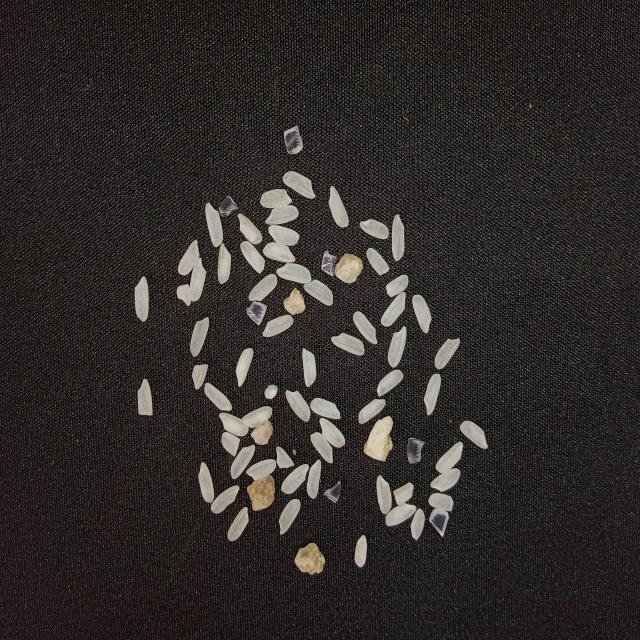Broken: (240, 241, 266, 273), (366, 248, 390, 276), (138, 378, 153, 416), (386, 275, 409, 297), (428, 493, 454, 512), (393, 482, 414, 505), (410, 508, 424, 541), (222, 432, 240, 457), (276, 446, 294, 469), (192, 364, 208, 389), (176, 284, 191, 306), (264, 384, 278, 400)
Full: (282, 171, 316, 199), (380, 292, 406, 328), (328, 185, 349, 228), (230, 445, 256, 479), (352, 311, 378, 345), (205, 202, 224, 248), (210, 485, 240, 514), (281, 463, 309, 494), (436, 442, 463, 474), (434, 338, 461, 370), (285, 390, 311, 423), (248, 274, 278, 302), (303, 278, 333, 306), (331, 332, 365, 356), (460, 421, 488, 450), (319, 417, 345, 448), (388, 326, 407, 368), (279, 499, 301, 535), (178, 240, 200, 276), (377, 369, 404, 398), (238, 213, 262, 245), (412, 294, 431, 334), (190, 316, 209, 356), (205, 383, 232, 411), (423, 374, 441, 416), (358, 398, 387, 424), (228, 507, 250, 541), (190, 258, 207, 302), (311, 432, 334, 464), (262, 314, 294, 337), (430, 468, 460, 492), (236, 348, 254, 387), (276, 263, 311, 283), (386, 503, 416, 526), (134, 276, 149, 322), (219, 413, 249, 436), (310, 398, 341, 420), (391, 214, 405, 262), (268, 225, 300, 246), (263, 242, 296, 262), (242, 406, 272, 428), (198, 462, 214, 502), (246, 459, 276, 480), (360, 219, 390, 240), (376, 476, 392, 514), (260, 189, 292, 208), (307, 459, 322, 499), (266, 206, 298, 224), (218, 243, 232, 284), (302, 348, 316, 387), (354, 534, 367, 568)
